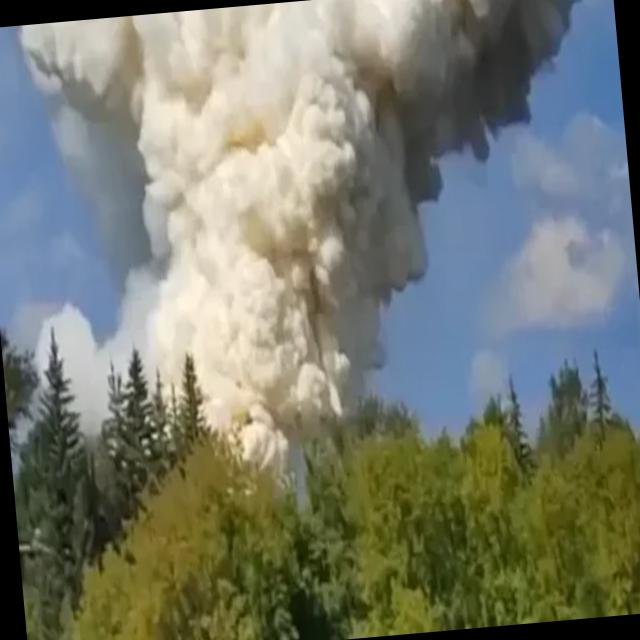Smoke: (11, 0, 629, 469)
